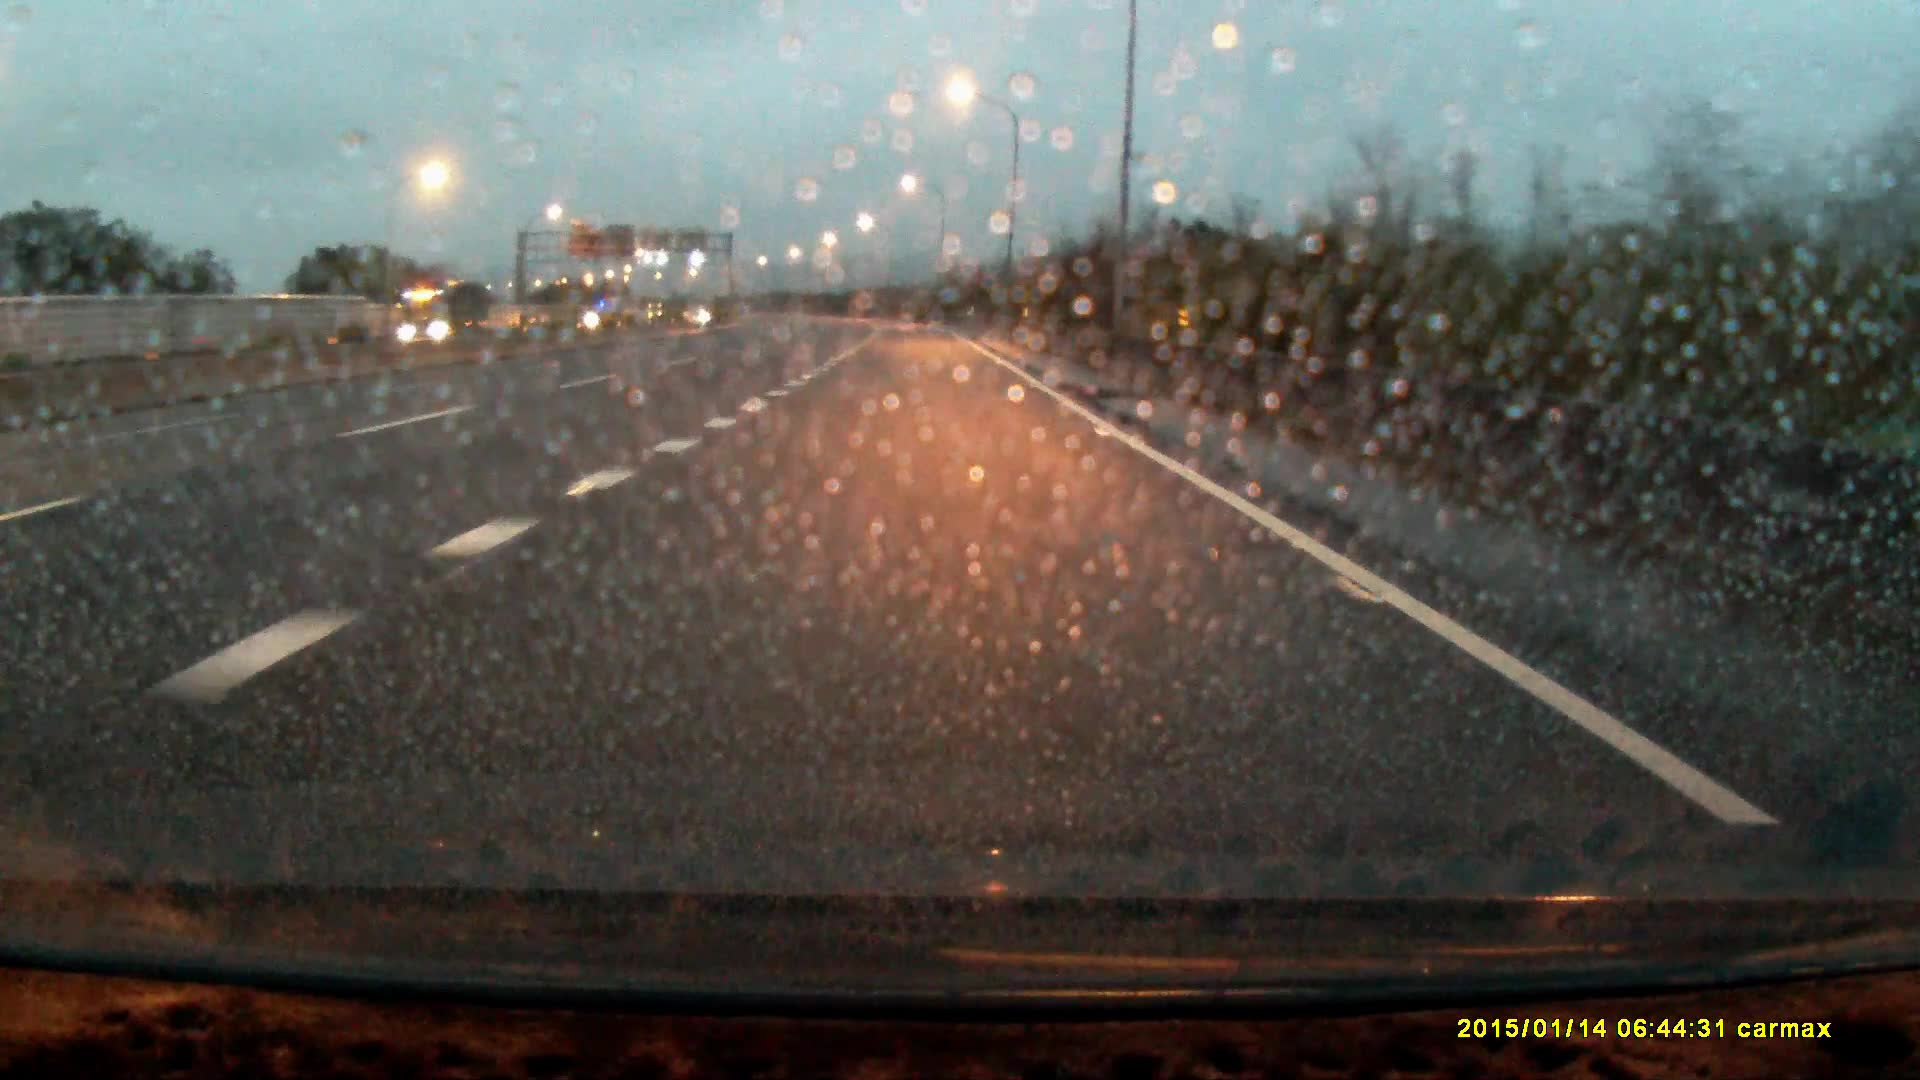vehicle: (400, 287, 471, 343)
